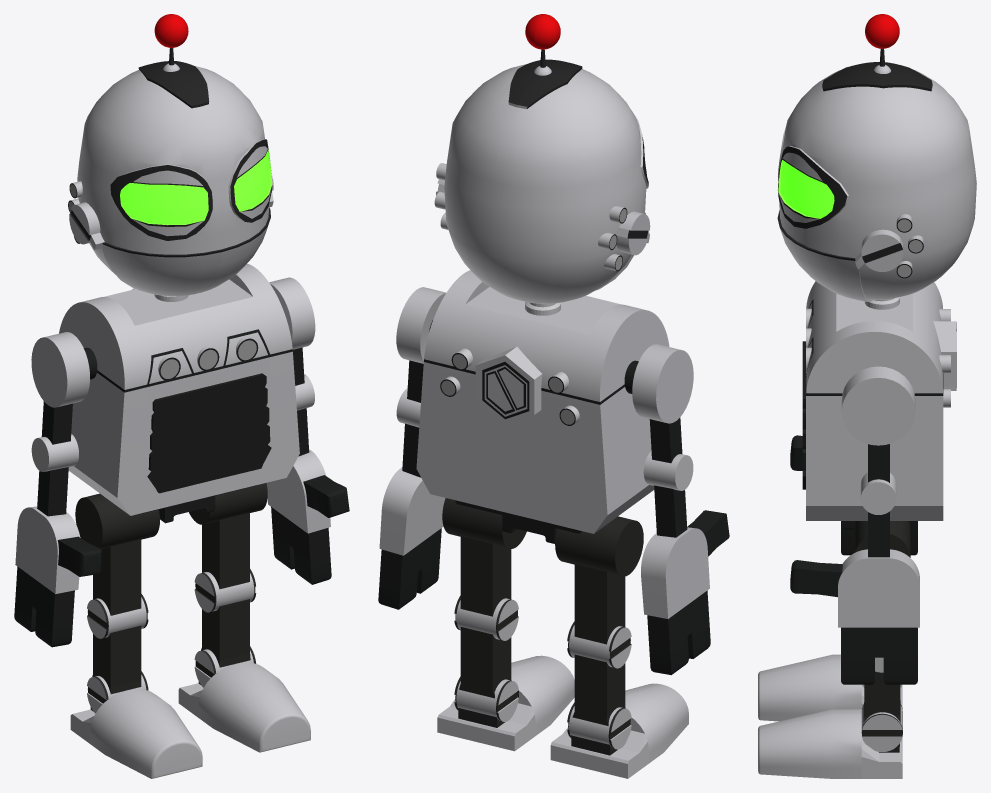
File: Clank.fbx
3 renders of one model, left to right at view 1: azimuth 30°, elevation 25°; view 2: azimuth 150°, elevation 25°; view 3: azimuth 270°, elevation 25°, orthographic. The views are drawn at different scales.
Parts seen in each view (by area): view 1: Body, Head, Leg, Arm; view 2: Body, Head, Leg, Arm; view 3: Head, Body, Arm, Leg.
Boxes of the visible parts, <box> form: Body: <box>59,263,299,523</box>; Head: <box>68,14,273,296</box>; Leg: <box>70,483,310,778</box>; Arm: <box>14,277,349,647</box>; Body: <box>416,270,669,543</box>; Head: <box>434,14,650,303</box>; Leg: <box>437,498,688,778</box>; Arm: <box>378,287,729,675</box>; Head: <box>777,14,976,301</box>; Body: <box>802,281,956,529</box>; Arm: <box>790,366,919,684</box>; Leg: <box>758,521,910,778</box>.
Bounding box in the file's own units: 334 × 798 × 220.
